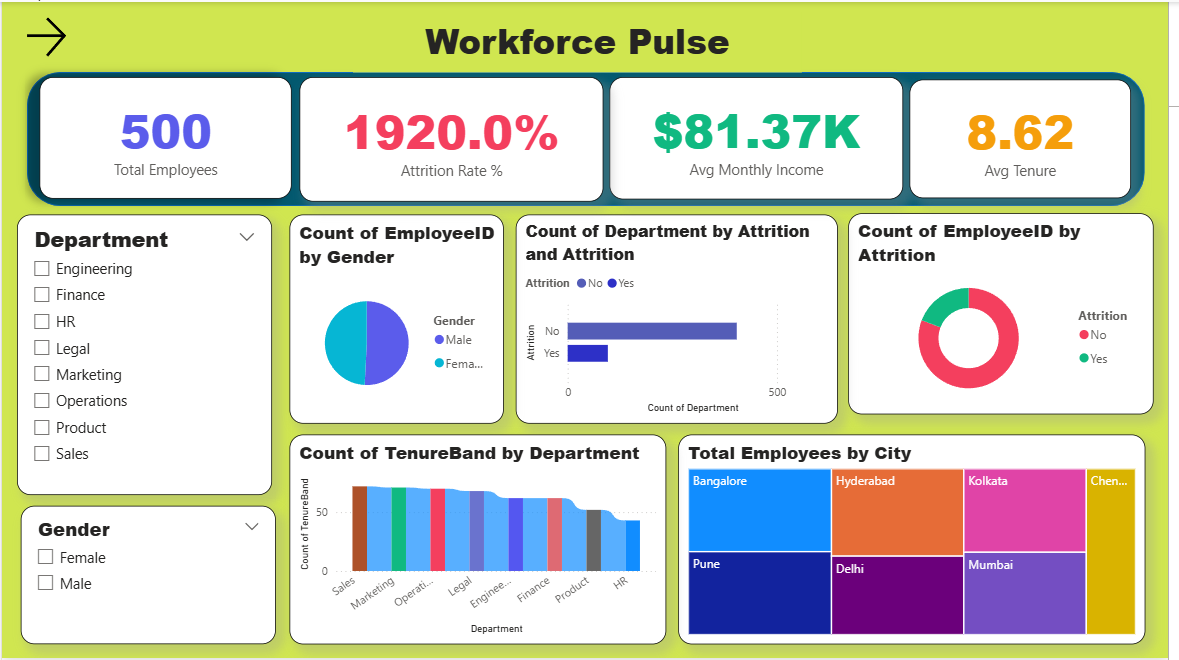

This screenshot's page, from the dashboard's own definition file:
{"tool":"powerbi","page":{"name":"Page 1","canvas":[1280,720],"ordinal":0},"visuals":[{"type":"card","fields":{"Values":["HR_Analytics_Dataset.Avg Monthly Income"]},"box":[666.4,82.4,322.4,134],"z":0,"group":"g1"},{"type":"donutChart","fields":{"Category":["HR_Analytics_Dataset.Attrition"],"Y":["CountNonNull(HR_Analytics_Dataset.EmployeeID)"]},"box":[929,231.9,334.8,220.9],"z":0},{"type":"card","fields":{"Values":["HR_Analytics_Dataset.Attrition Rate %"]},"box":[326.2,82.8,333.5,136.8],"z":1000,"group":"g1"},{"type":"slicer","fields":{"Values":["HR_Analytics_Dataset.Department"]},"box":[16.9,232.8,279.9,307.6],"z":1000},{"type":"card","fields":{"Values":["HR_Analytics_Dataset.Total Employees"]},"box":[41.2,83,277,133.5],"z":2000,"group":"g3"},{"type":"card","fields":{"Values":["HR_Analytics_Dataset.Avg Tenure"]},"box":[996,84.6,242.9,130.4],"z":2000,"group":"g1"},{"type":"slicer","fields":{"Values":["HR_Analytics_Dataset.Gender"]},"box":[20.6,553,279.9,152.3],"z":2000},{"type":"barChart","fields":{"Series":["HR_Analytics_Dataset.Attrition"],"Category":["HR_Analytics_Dataset.Attrition"],"Y":["CountNonNull(HR_Analytics_Dataset.Department)"]},"box":[563.4,232.8,353.5,229.2],"z":3000},{"type":"pieChart","fields":{"Category":["HR_Analytics_Dataset.Gender"],"Y":["CountNonNull(HR_Analytics_Dataset.EmployeeID)"]},"box":[316.1,232.8,235.3,229.2],"z":4000},{"type":"treemap","fields":{"Group":["HR_Analytics_Dataset.City"],"Values":["HR_Analytics_Dataset.Total Employees"]},"box":[742,475.3,512.7,230.4],"z":5000},{"type":"actionButton","box":[20.6,11,64.5,54.9],"z":6000},{"type":"ribbonChart","fields":{"Category":["HR_Analytics_Dataset.Department"],"Y":["CountNonNull(HR_Analytics_Dataset.TenureBand)"]},"box":[316.1,475.3,413.8,230.4],"z":7000},{"type":"shape","box":[27.7,77.2,1227,147.2],"z":8000},{"type":"group","id":"g1","title":"Group 3","box":[41.2,82.4,1197.7,137.2],"z":9000},{"type":"textbox","box":[386.1,10.9,492.2,66.4],"z":10000},{"type":"group","id":"g2","title":"Group 2","box":[41.2,83,277.4,133.5],"z":11000,"group":"g1"},{"type":"group","id":"g3","title":"Group 1","box":[41.2,83,277.4,133.5],"z":12000,"group":"g2"}]}

Visuals, with their boxes in screenshot pixels (x1, y1, x2, y2), scaled from the page's 1280x720 canvas onto the 1179x660 screenshot:
card - HR_Analytics_Dataset.Avg Monthly Income: l=614, t=76, r=911, b=198
donutChart - HR_Analytics_Dataset.Attrition x CountNonNull(HR_Analytics_Dataset.EmployeeID): l=856, t=213, r=1164, b=415
card - HR_Analytics_Dataset.Attrition Rate %: l=300, t=76, r=608, b=201
slicer - HR_Analytics_Dataset.Department: l=16, t=213, r=273, b=495
card - HR_Analytics_Dataset.Total Employees: l=38, t=76, r=293, b=198
card - HR_Analytics_Dataset.Avg Tenure: l=917, t=78, r=1141, b=197
slicer - HR_Analytics_Dataset.Gender: l=19, t=507, r=277, b=647
barChart - HR_Analytics_Dataset.Attrition x HR_Analytics_Dataset.Attrition: l=519, t=213, r=845, b=424
pieChart - HR_Analytics_Dataset.Gender x CountNonNull(HR_Analytics_Dataset.EmployeeID): l=291, t=213, r=508, b=424
treemap - HR_Analytics_Dataset.City x HR_Analytics_Dataset.Total Employees: l=683, t=436, r=1156, b=647
actionButton: l=19, t=10, r=78, b=60
ribbonChart - HR_Analytics_Dataset.Department x CountNonNull(HR_Analytics_Dataset.TenureBand): l=291, t=436, r=672, b=647
shape: l=26, t=71, r=1156, b=206
"Group 3" group: l=38, t=76, r=1141, b=201
textbox: l=356, t=10, r=809, b=71
"Group 2" group: l=38, t=76, r=293, b=198
"Group 1" group: l=38, t=76, r=293, b=198
